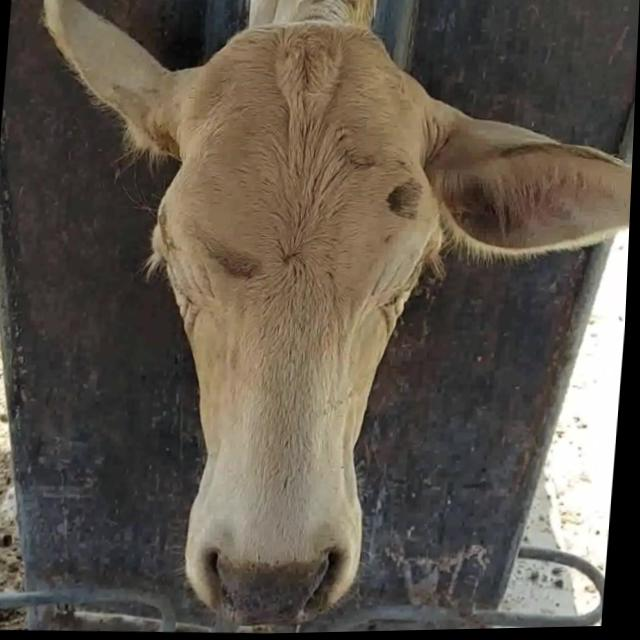cowFace: (126, 14, 456, 631)
